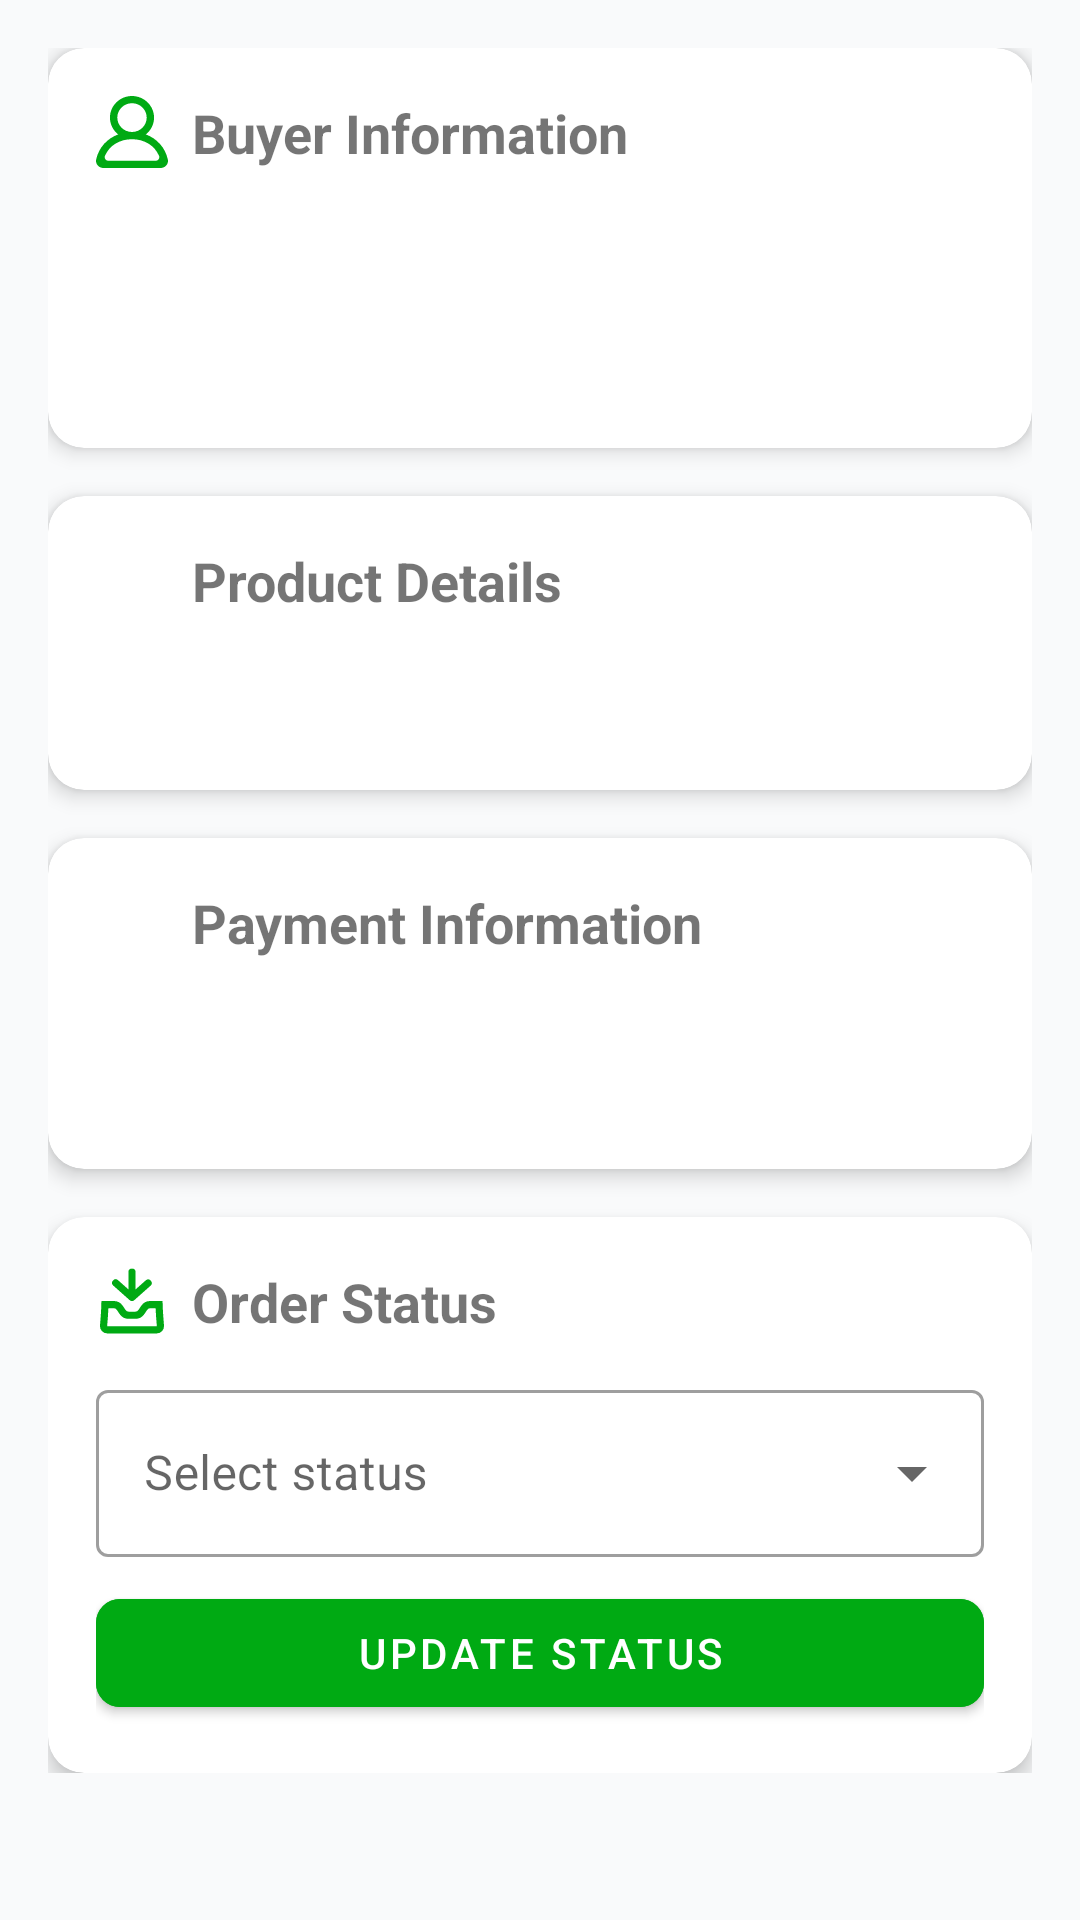

Locate icon controls on the screen. Image size 1080 x 1920, boxes as (x1, y1, x2, y2).
Buyer Profile Icon: (96, 96, 168, 168)
